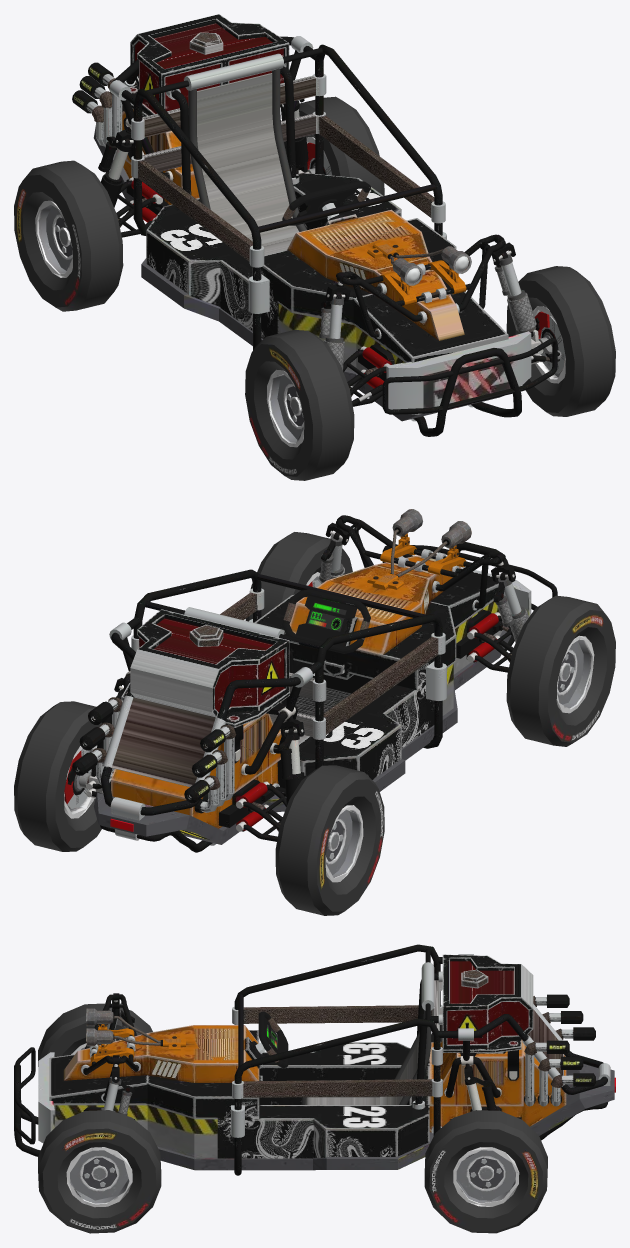
Rendered from offroad-buggy.glb.
3 views of the same model, one above another, from view 1: azimuth 30°, elevation 25°; view 2: azimuth 150°, elevation 25°; view 3: azimuth 270°, elevation 25° (orthographic). The views are drawn at different scales.
Visible parts, largest first — view 1: 1 BAN, 3 FRAME 1, 7 BODY 1, 6 KURSI, 5 GAS N BENSIN, 8 BODY 2, 4 FRAME 2, 9 ACC, 2 STIR, 10 REM; view 2: 1 BAN, 3 FRAME 1, 7 BODY 1, 5 GAS N BENSIN, 4 FRAME 2, 8 BODY 2, 2 STIR, 9 ACC, 10 REM; view 3: 7 BODY 1, 1 BAN, 3 FRAME 1, 5 GAS N BENSIN, 8 BODY 2, 4 FRAME 2, 9 ACC, 6 KURSI, 2 STIR.
Boxes of the visible parts, box(x1,y1,x2,y2) form: 1 BAN: box(14, 96, 615, 480); 3 FRAME 1: box(109, 36, 557, 436); 7 BODY 1: box(122, 109, 508, 362); 6 KURSI: box(188, 68, 306, 254); 5 GAS N BENSIN: box(72, 14, 289, 155); 8 BODY 2: box(93, 125, 531, 421); 4 FRAME 2: box(98, 99, 561, 406); 9 ACC: box(367, 241, 471, 306); 2 STIR: box(282, 181, 370, 225); 10 REM: box(307, 142, 565, 373); 1 BAN: box(14, 532, 615, 915); 3 FRAME 1: box(100, 515, 557, 852); 7 BODY 1: box(111, 553, 498, 828); 5 GAS N BENSIN: box(72, 609, 289, 813); 4 FRAME 2: box(78, 522, 528, 841); 8 BODY 2: box(93, 556, 531, 844); 2 STIR: box(282, 589, 370, 653); 9 ACC: box(367, 509, 471, 589); 10 REM: box(64, 580, 320, 808); 7 BODY 1: box(49, 1025, 566, 1158); 1 BAN: box(38, 1003, 547, 1233); 3 FRAME 1: box(14, 944, 610, 1175); 5 GAS N BENSIN: box(442, 954, 595, 1106); 8 BODY 2: box(38, 1052, 615, 1170); 4 FRAME 2: box(64, 999, 521, 1119); 9 ACC: box(86, 1008, 185, 1064); 6 KURSI: box(301, 1010, 431, 1104); 2 STIR: box(249, 1011, 288, 1068).
Size of the model in its own units: 0.4856 by 0.3666 by 1.
10 materials, 10 textured.
